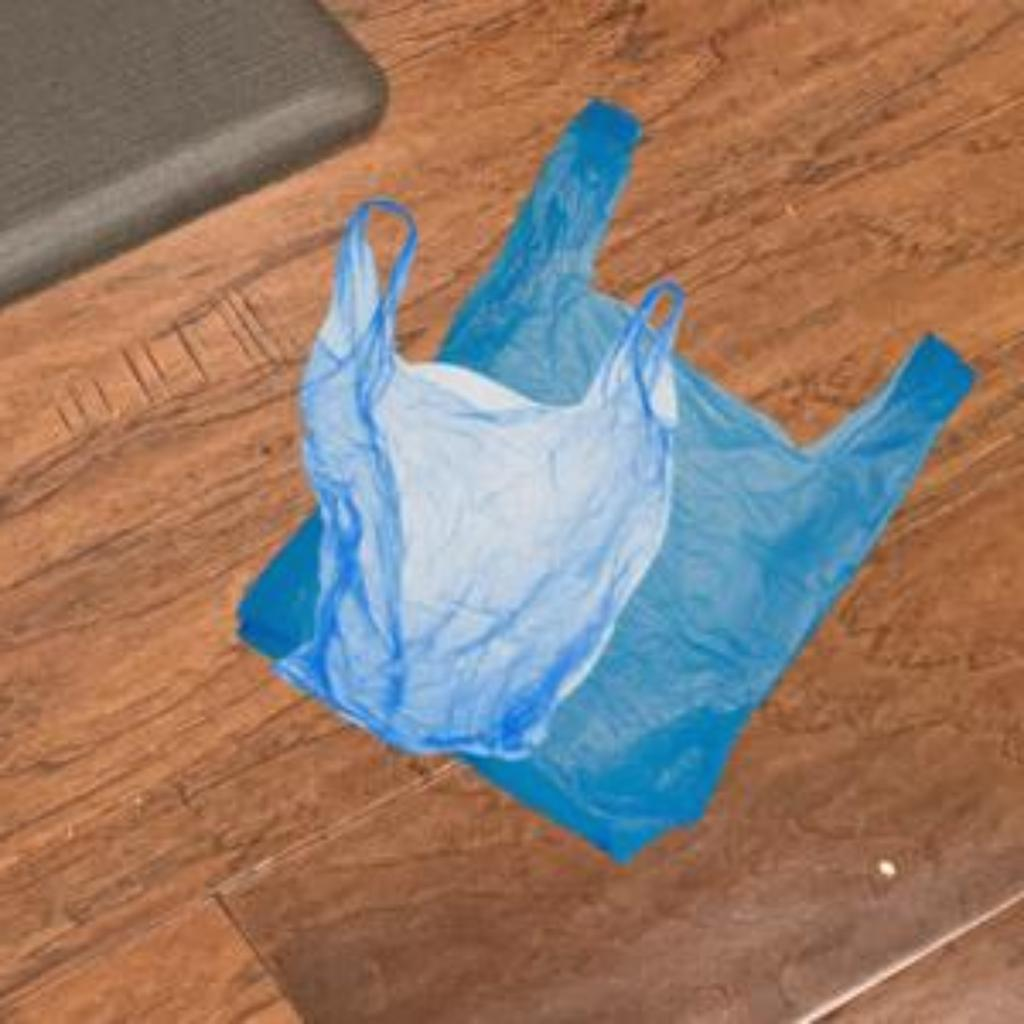garbage: (369, 137, 881, 857), (246, 207, 696, 759)
